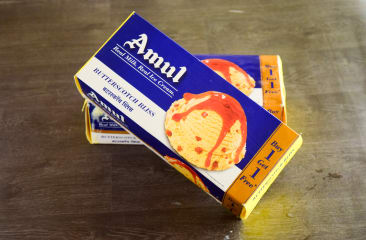Amul: (121, 29, 191, 86)
